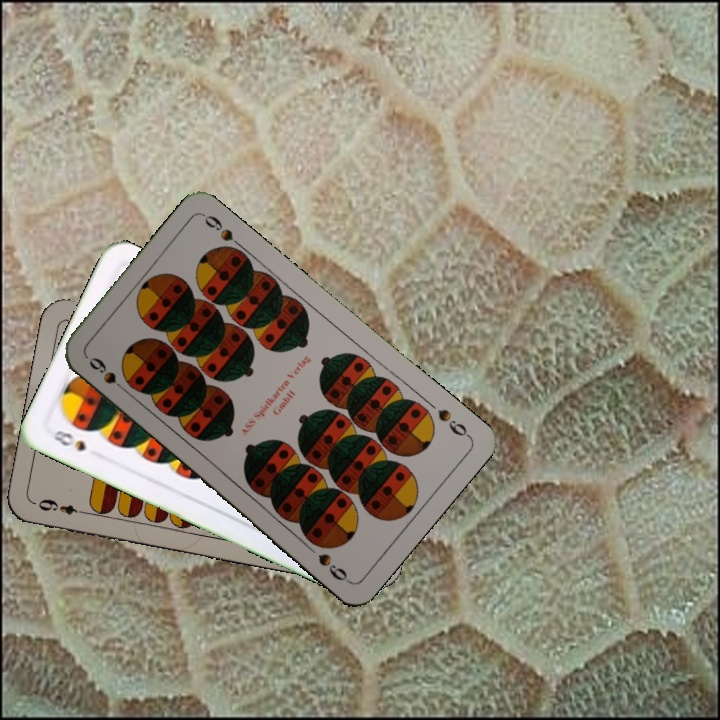E9: (31, 494, 90, 517)
S8: (48, 426, 89, 454)
S9: (85, 353, 132, 397), (433, 405, 473, 441)
